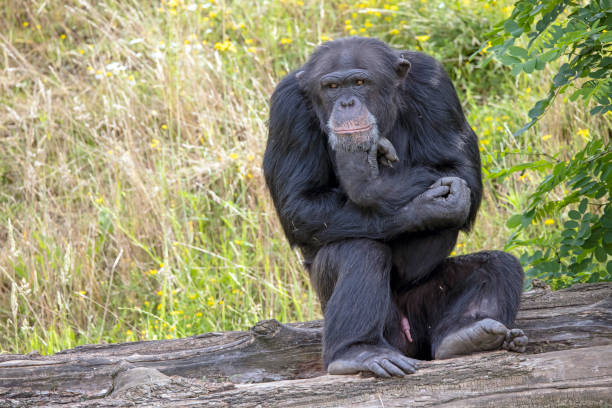chimpanzee: (287, 38, 425, 166)
